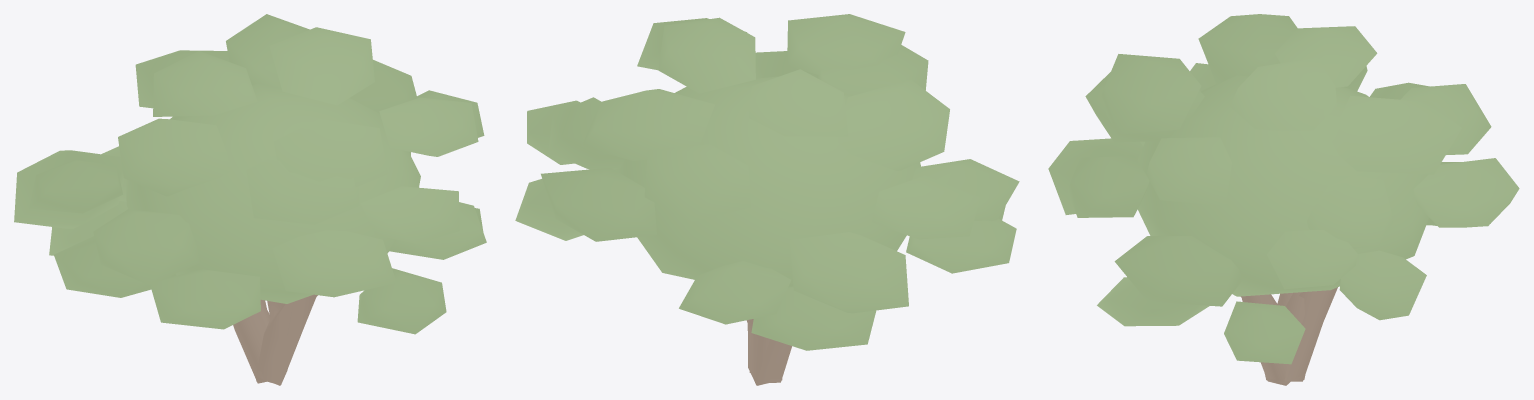
Rendered from Blender_Sagebrush_1.glb.
The picture shows the model from 3 angles, left to right: view 1: azimuth 30°, elevation 25°; view 2: azimuth 150°, elevation 25°; view 3: azimuth 270°, elevation 25°; orthographic projection. The views are drawn at different scales.
Parts seen in each view (by area): view 1: Blender_Sagebrush_1; view 2: Blender_Sagebrush_1; view 3: Blender_Sagebrush_1.
Boxes of the visible parts, left/top/right/bottom form: Blender_Sagebrush_1: left=14, top=14, right=486, bottom=385; Blender_Sagebrush_1: left=515, top=14, right=1019, bottom=385; Blender_Sagebrush_1: left=1048, top=14, right=1519, bottom=385.
Size of the model in its own units: 1.1 by 0.7916 by 0.9888.
